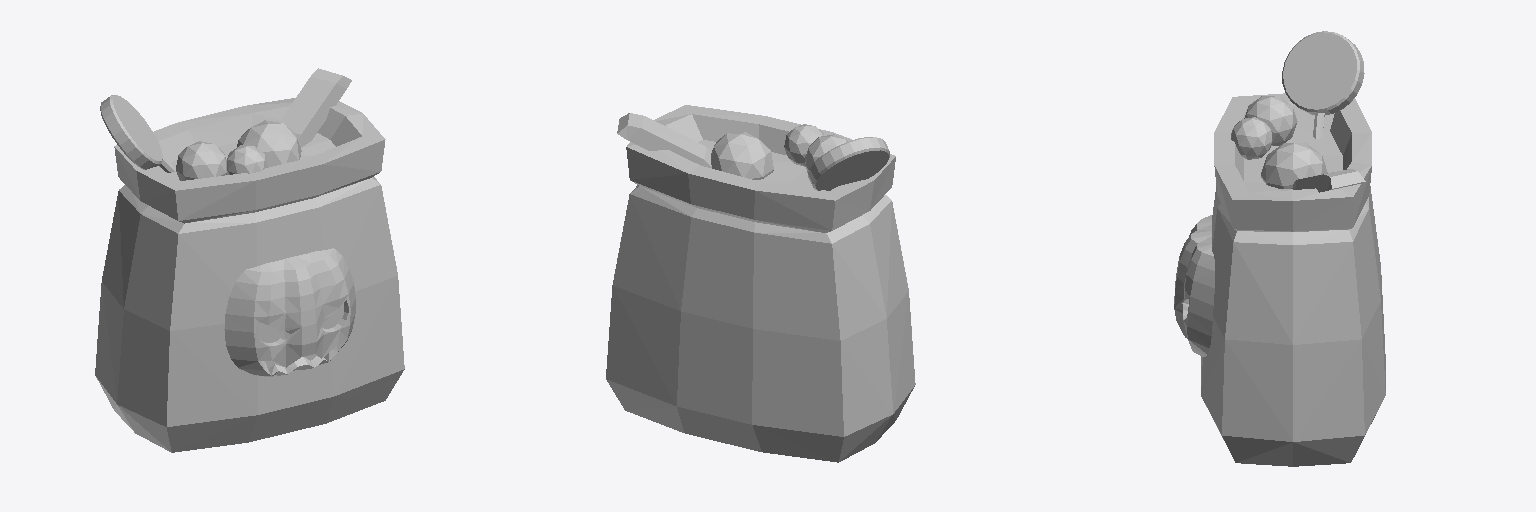
The model's file is CandyBag(z).obj.
The picture shows the model from 3 angles: view 1: azimuth 30°, elevation 25°; view 2: azimuth 150°, elevation 25°; view 3: azimuth 270°, elevation 25°; orthographic projection.
Visible parts, largest first — view 1: candyBag_Cube.001; view 2: candyBag_Cube.001; view 3: candyBag_Cube.001.
Part boxes in pixels (left/top/right/bottom): candyBag_Cube.001: left=95, top=68, right=404, bottom=452; candyBag_Cube.001: left=606, top=105, right=915, bottom=462; candyBag_Cube.001: left=1174, top=31, right=1385, bottom=466.
Bounding box in the file's own units: 5.76 × 6.84 × 3.96.